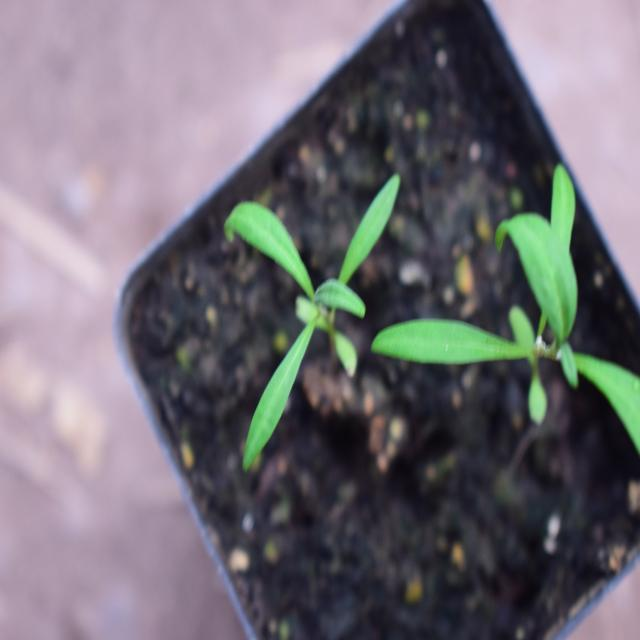white_smart_weed: (207, 140, 419, 488), (416, 154, 640, 465)
